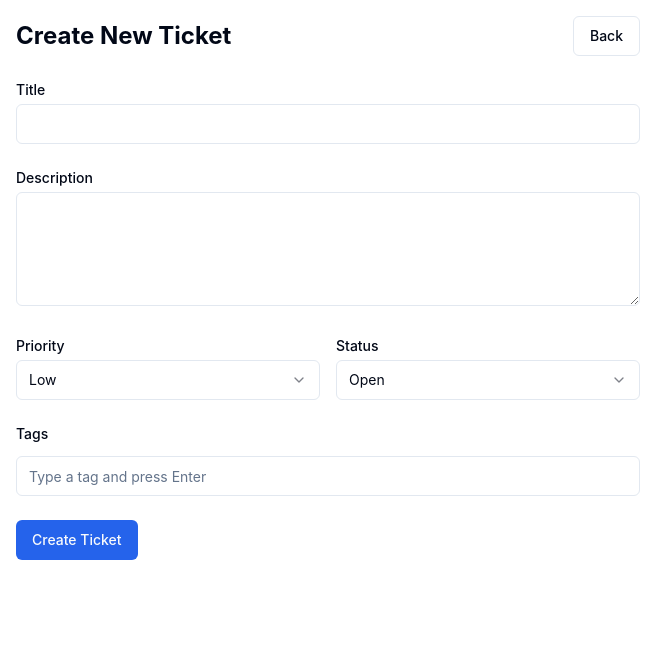
Test: CreateTicket › handles submission errors
The width and height of the screenshot is (657, 657).
# Fill out and submit the form
Type "Test Ticket" into the field labelled "Title" at (328, 124), box top-left (16, 104), bottom-right (640, 144)
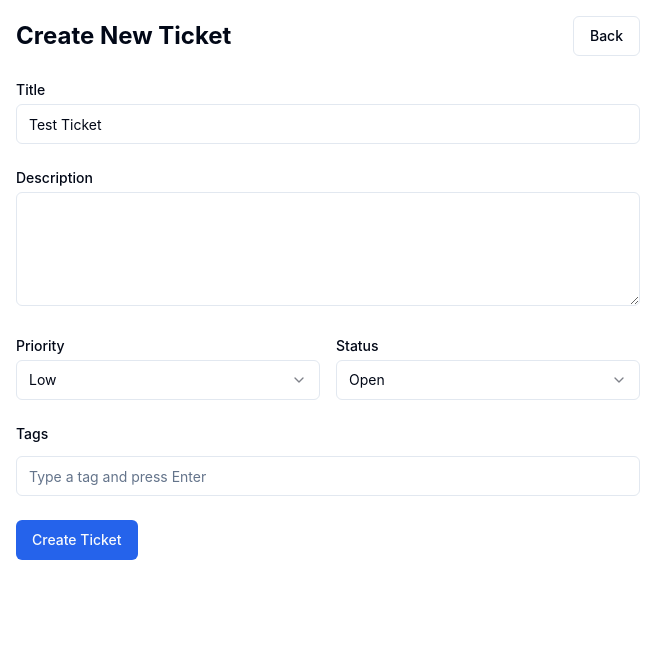
Click the button "Create Ticket" at (77, 540), box top-left (16, 520), bottom-right (138, 560)
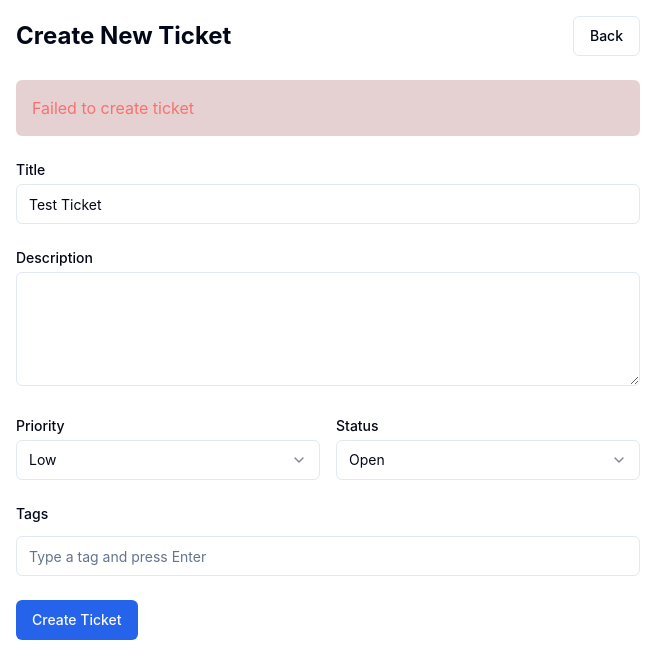
Result: the text "Failed to create ticket" is shown at top-left (16, 80), bottom-right (640, 136)
